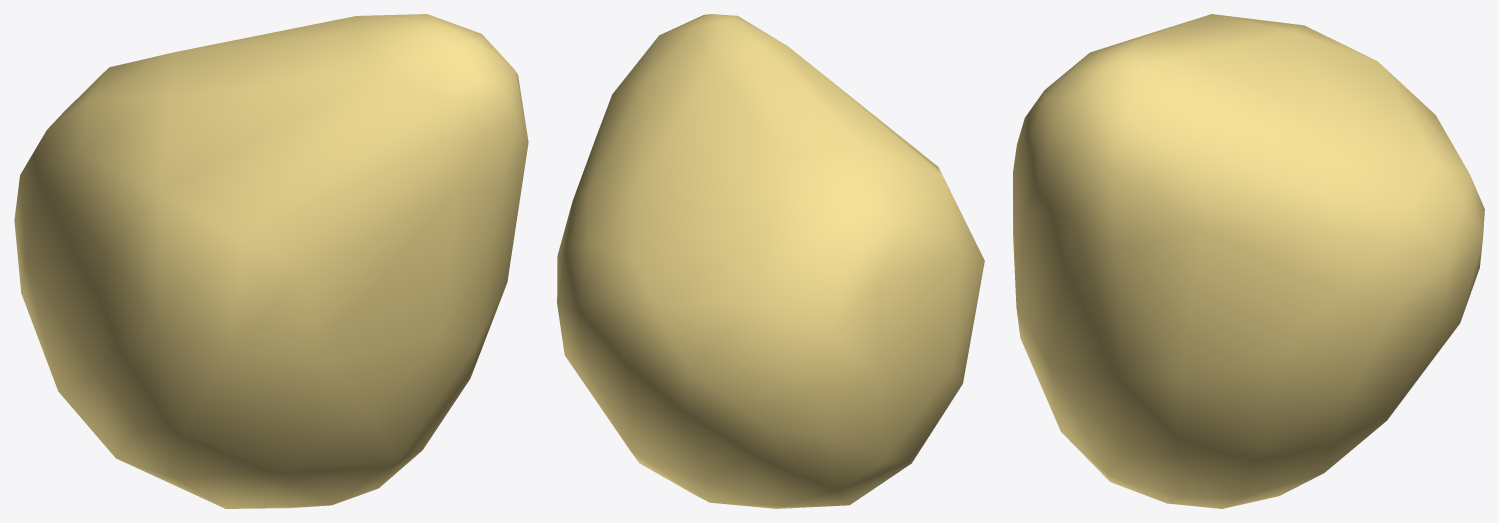
The model's file is fma74877_fj7485.glb.
The picture shows the model from 3 angles, left to right: view 1: azimuth 30°, elevation 25°; view 2: azimuth 150°, elevation 25°; view 3: azimuth 270°, elevation 25°; orthographic projection. The views are drawn at different scales.
Visible parts, largest first — view 1: FMA74877_FJ7485; view 2: FMA74877_FJ7485; view 3: FMA74877_FJ7485.
Boxes of the visible parts, box(x1,y1,x2,y2) form: FMA74877_FJ7485: box(14, 14, 528, 508); FMA74877_FJ7485: box(557, 14, 984, 508); FMA74877_FJ7485: box(1013, 14, 1484, 508).
Size of the model in its own units: 0.00491 by 0.00571 by 0.00507.
